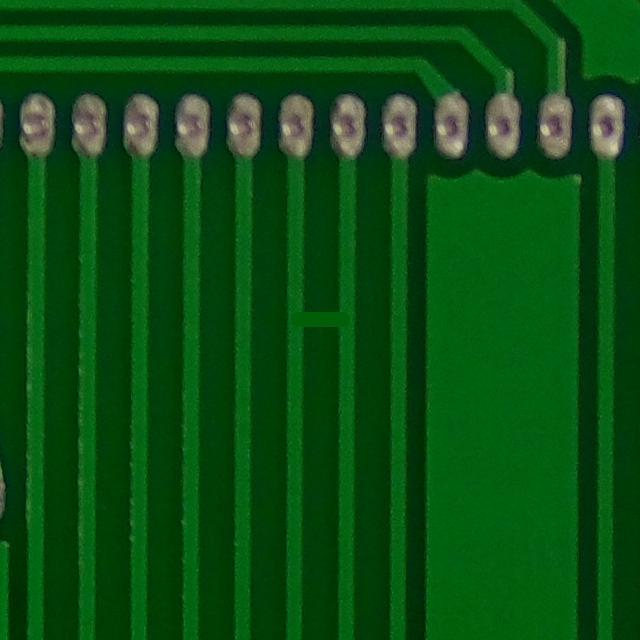short: (275, 289, 366, 351)
